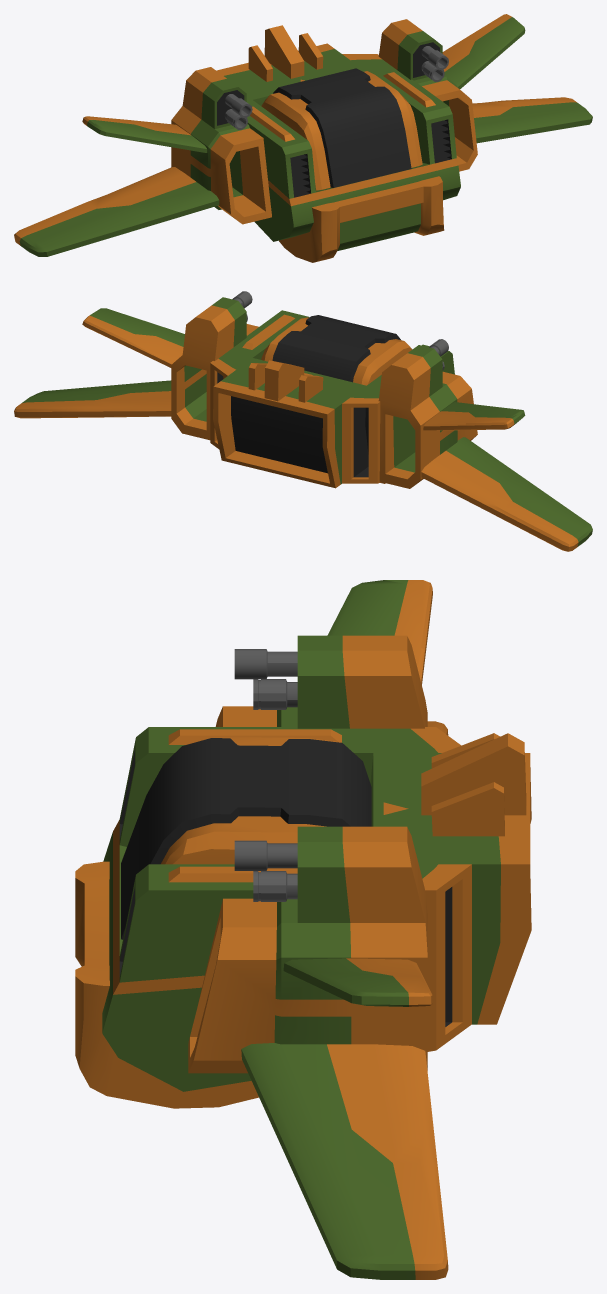
File: Spaceship.glb
3 renders of one model, top to bottom at view 1: azimuth 30°, elevation 25°; view 2: azimuth 150°, elevation 25°; view 3: azimuth 270°, elevation 25°, orthographic. The views are drawn at different scales.
Visible parts, largest first — view 1: Spaceship_FinnTheFrog; view 2: Spaceship_FinnTheFrog; view 3: Spaceship_FinnTheFrog.
Boxes of the visible parts, x1,y1,x2,y2 form: Spaceship_FinnTheFrog: (14, 14, 592, 262); Spaceship_FinnTheFrog: (14, 291, 592, 551); Spaceship_FinnTheFrog: (75, 580, 531, 1279).
Size of the model in its own units: 11.62 by 3.06 by 4.11.
Materials: 1 (1 with a texture image).
